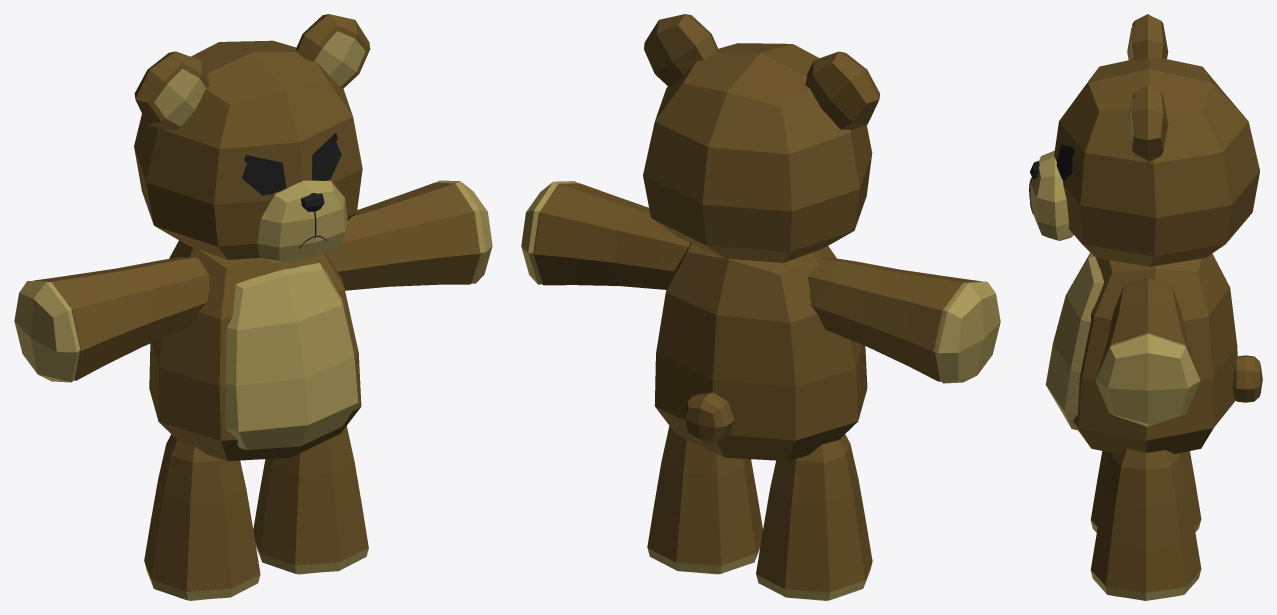
File: Bearstard.fbx
3 views of the same model, side by side, from view 1: azimuth 30°, elevation 25°; view 2: azimuth 150°, elevation 25°; view 3: azimuth 270°, elevation 25° (orthographic). The views are drawn at different scales.
Visible parts, largest first — view 1: Cabeza, Torzo.001, Torzo, Patas, Brazos.001, PiernaDer, BrazoIzq, Ociso, ManoIzq, Orejas, Orejas.001, OjoDer (+4 smaller); view 2: Cabeza, Torzo, Patas, Brazos.001, PiernaDer, BrazoIzq, Orejas, ManoIzq, Cola, Brazos, Patas.001, PieDer; view 3: Cabeza, Torzo, PiernaDer, Brazos, Torzo.001, Brazos.001, Orejas, Ociso, Patas, Cola, PieDer, OjoIzq (+1 smaller).
Part boxes in pixels (x1=…): Cabeza: x1=134, y1=40, x2=362, y2=259; Torzo.001: x1=225, y1=263, x2=358, y2=449; Torzo: x1=149, y1=240, x2=361, y2=461; Patas: x1=144, y1=434, x2=260, y2=591; Brazos.001: x1=326, y1=182, x2=480, y2=290; PiernaDer: x1=253, y1=426, x2=368, y2=565; BrazoIzq: x1=33, y1=257, x2=209, y2=380; Ociso: x1=257, y1=180, x2=347, y2=263; ManoIzq: x1=14, y1=281, x2=80, y2=382; Orejas: x1=134, y1=14, x2=370, y2=130; Orejas.001: x1=154, y1=31, x2=365, y2=126; OjoDer: x1=242, y1=155, x2=286, y2=195; Cabeza: x1=643, y1=43, x2=872, y2=262; Torzo: x1=654, y1=243, x2=867, y2=461; Patas: x1=756, y1=434, x2=872, y2=592; Brazos.001: x1=533, y1=183, x2=689, y2=289; PiernaDer: x1=647, y1=426, x2=762, y2=565; BrazoIzq: x1=807, y1=257, x2=981, y2=381; Orejas: x1=644, y1=14, x2=879, y2=129; ManoIzq: x1=934, y1=281, x2=1000, y2=383; Cola: x1=682, y1=392, x2=734, y2=443; Brazos: x1=521, y1=181, x2=578, y2=284; Patas.001: x1=756, y1=561, x2=872, y2=600; PieDer: x1=647, y1=542, x2=760, y2=574; Cabeza: x1=1054, y1=58, x2=1259, y2=266; Torzo: x1=1073, y1=253, x2=1237, y2=453; PiernaDer: x1=1091, y1=448, x2=1201, y2=592; Brazos: x1=1095, y1=333, x2=1200, y2=426; Torzo.001: x1=1045, y1=253, x2=1103, y2=430; Brazos.001: x1=1096, y1=277, x2=1199, y2=378; Orejas: x1=1132, y1=14, x2=1168, y2=161; Ociso: x1=1030, y1=150, x2=1073, y2=240; Patas: x1=1091, y1=451, x2=1201, y2=526; Cola: x1=1232, y1=355, x2=1262, y2=402; PieDer: x1=1090, y1=570, x2=1200, y2=600; OjoIzq: x1=1056, y1=144, x2=1074, y2=180.
Size of the model in its own units: 463 by 536 by 223.
